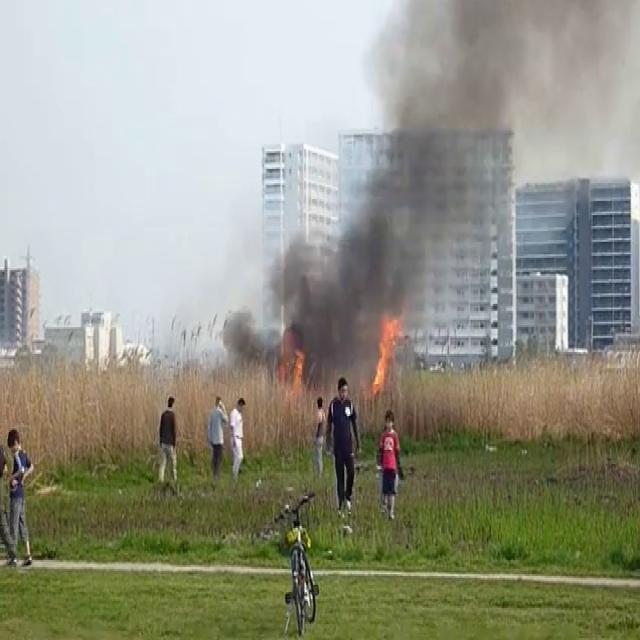Fire: (370, 308, 406, 398)
Smoke: (262, 0, 640, 362)
